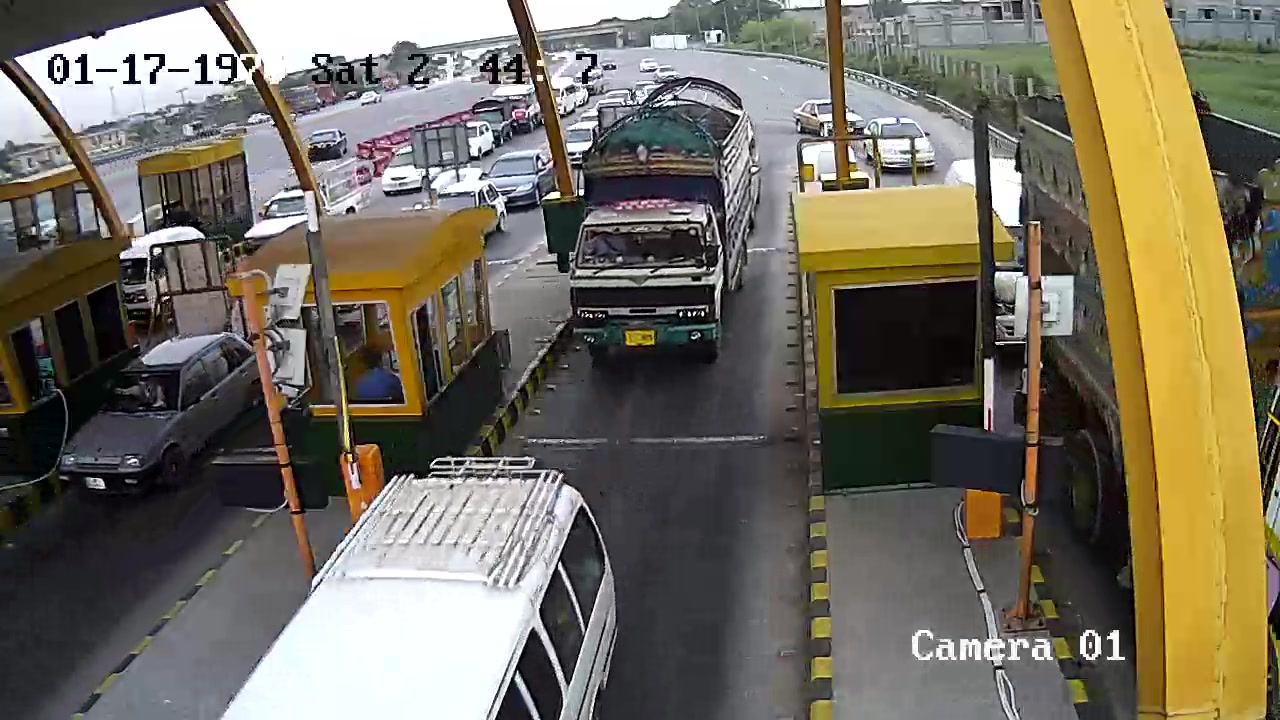F5: (553, 73, 784, 379)
